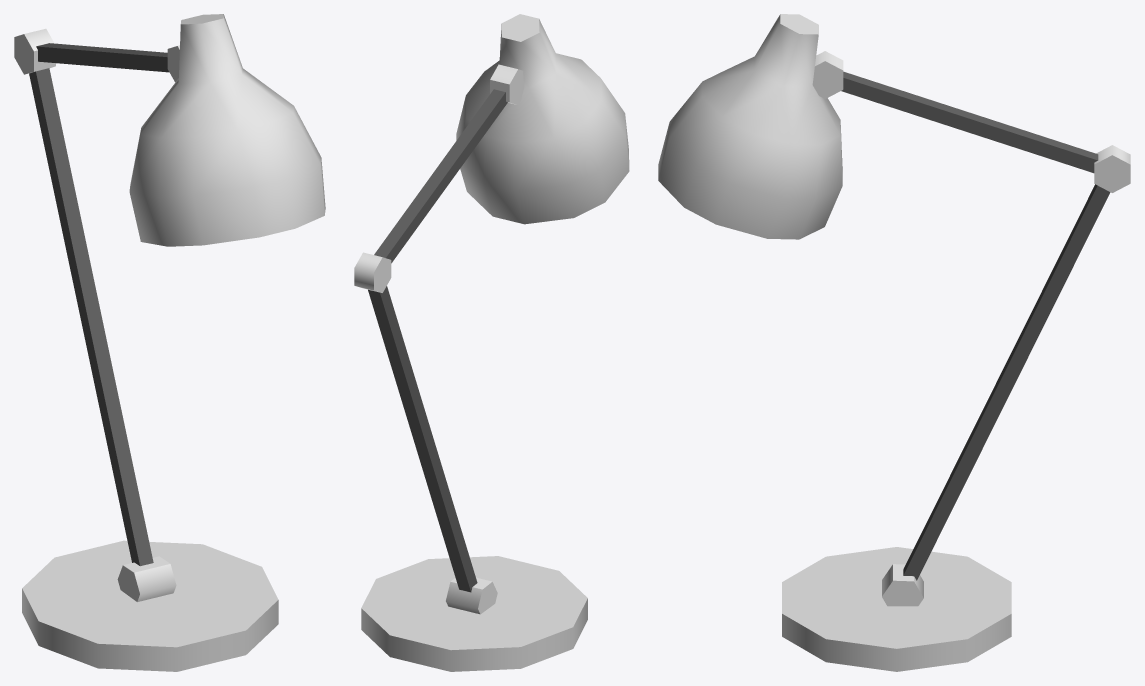
File: lamp_021.glb
3 views of the same model, side by side, from view 1: azimuth 30°, elevation 25°; view 2: azimuth 150°, elevation 25°; view 3: azimuth 270°, elevation 25° (orthographic). The views are drawn at different scales.
Visible parts, largest first — view 1: lamp_021; view 2: lamp_021; view 3: lamp_021.
Part boxes in pixels (x1=…): lamp_021: x1=14, y1=14, x2=325, y2=671; lamp_021: x1=354, y1=14, x2=629, y2=671; lamp_021: x1=658, y1=14, x2=1130, y2=671.
Bounding box in the file's own units: 0.1458 × 0.4013 × 0.2853.
1 material, 1 textured.
